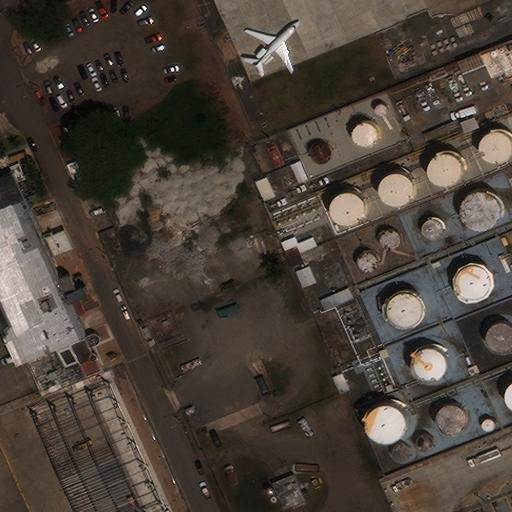Medium Civil Transport: (246, 20, 297, 71)
